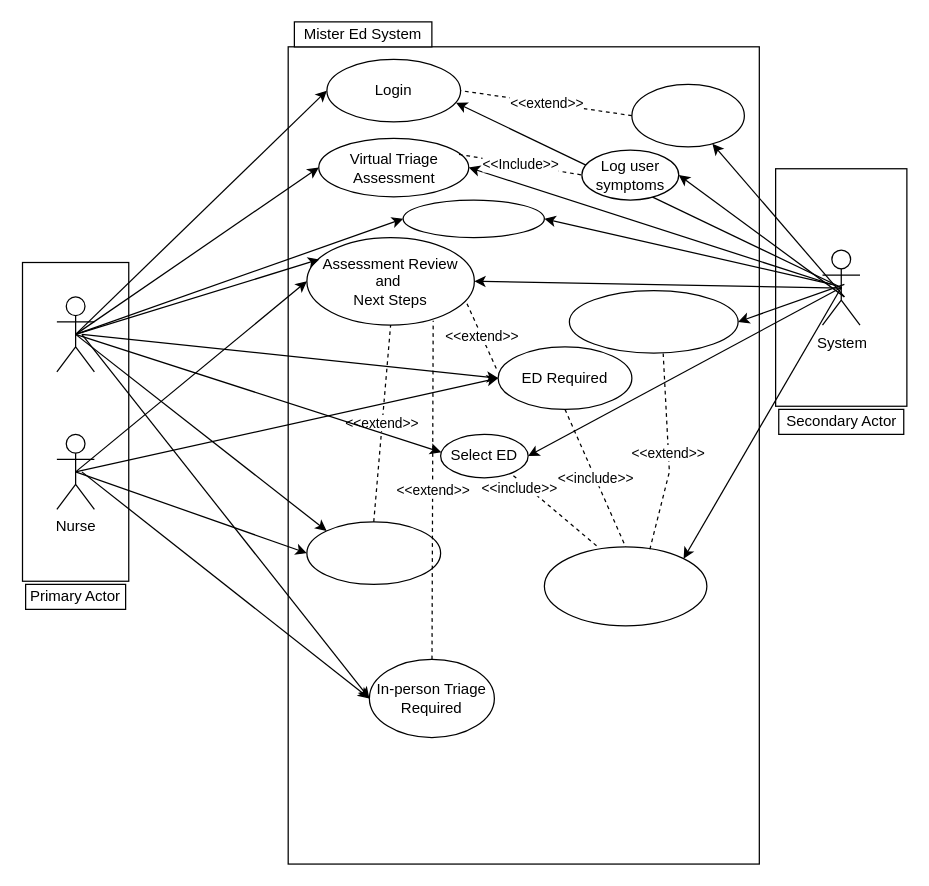
Some shapes in this 929 by 886 pixel diagram are drawn without their labels. The centre of each missing label's shape, as x and y in pixels:
"Check ED load + give options to user" goes at pixel 625 586.
"ED Queue (update/add/remove)" goes at pixel 653 321.
"Follow Other course of Action" goes at pixel 373 552.
"patient" goes at pixel 75 334.
"Register" goes at pixel 687 115.
"Send Notification" goes at pixel 473 218.
